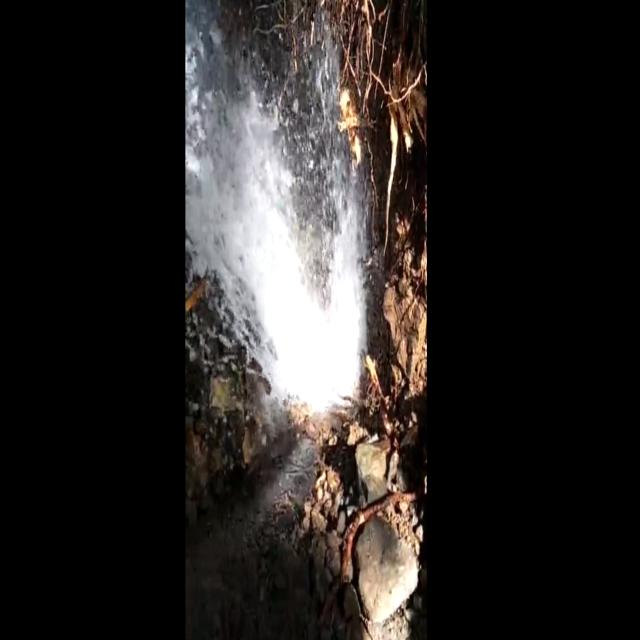leak: (186, 2, 366, 411)
